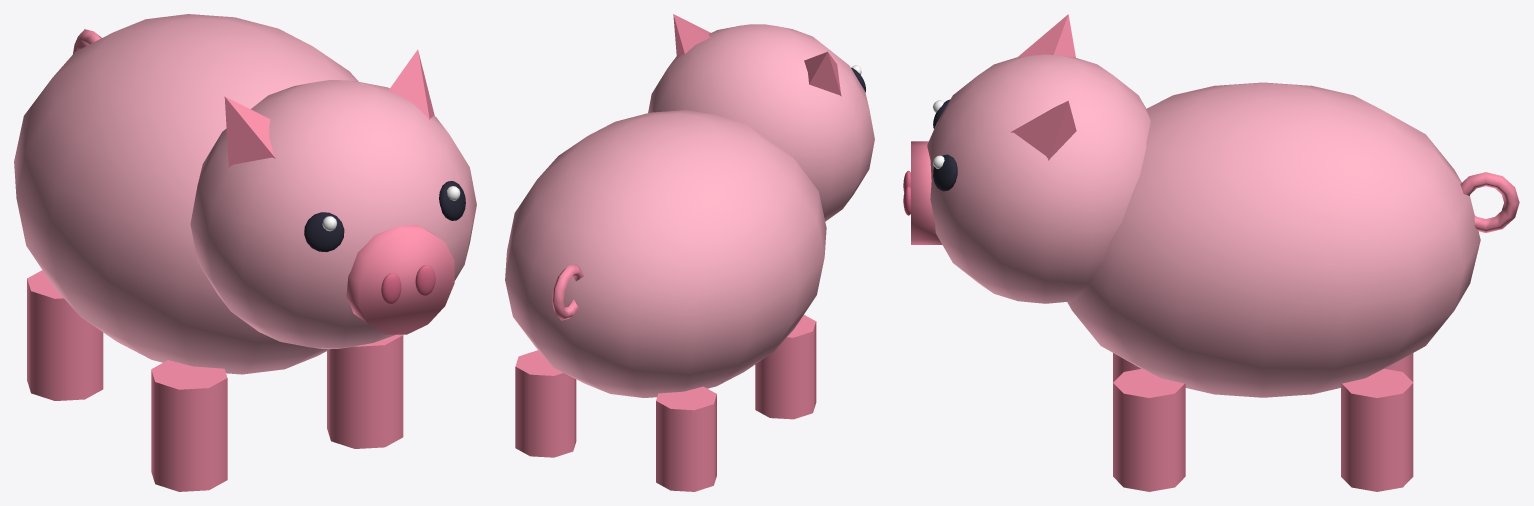
File: animal_pig.glb
3 views of the same model, side by side, from view 1: azimuth 30°, elevation 25°; view 2: azimuth 150°, elevation 25°; view 3: azimuth 270°, elevation 25° (orthographic). The views are drawn at different scales.
Parts seen in each view (by area): view 1: body; view 2: body; view 3: body.
Boxes of the visible parts, x1,y1,x2,y2 form: body: [14, 14, 476, 491]; body: [505, 14, 874, 491]; body: [903, 14, 1519, 491].
Size of the model in its own units: 0.68 by 0.8096 by 1.19.
